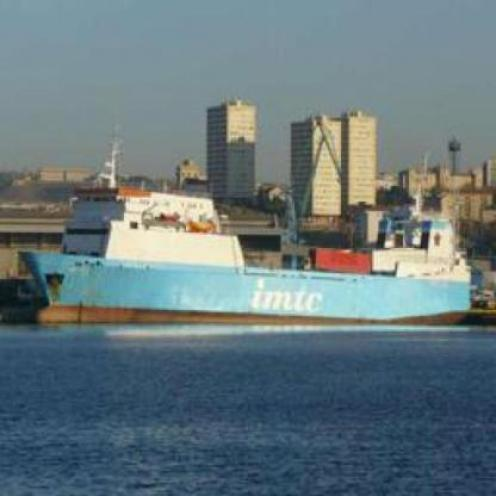Ship: (21, 178, 482, 331)
